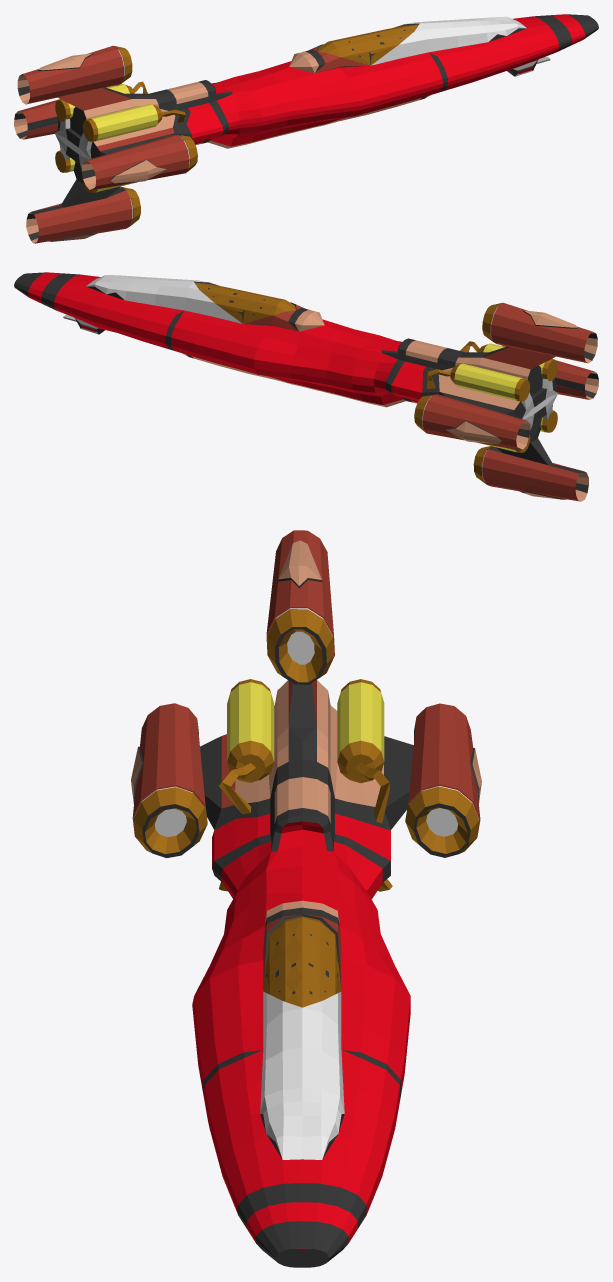
The model's file is BoostUpg.fbx.
3 renders of one model, top to bottom at view 1: azimuth 30°, elevation 25°; view 2: azimuth 150°, elevation 25°; view 3: azimuth 270°, elevation 25°, orthographic. The views are drawn at different scales.
Parts seen in each view (by area): view 1: SOLOBoostUPG; view 2: SOLOBoostUPG; view 3: SOLOBoostUPG.
Boxes of the visible parts, x1,y1,x2,y2 form: SOLOBoostUPG: (14, 14, 598, 243); SOLOBoostUPG: (14, 272, 598, 501); SOLOBoostUPG: (131, 530, 481, 1267).
Size of the model in its own units: 471 by 144 by 126.
